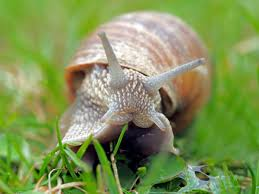snail: (66, 11, 213, 158)
